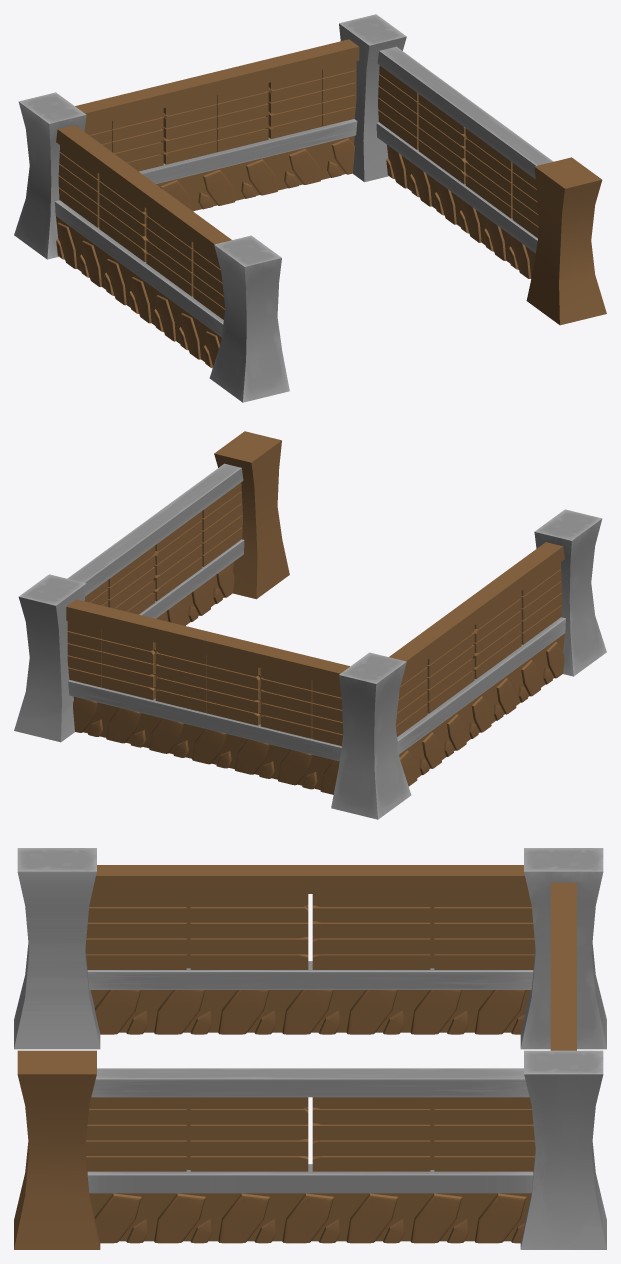
The model's file is Muros1.obj.
3 renders of one model, top to bottom at view 1: azimuth 30°, elevation 25°; view 2: azimuth 150°, elevation 25°; view 3: azimuth 270°, elevation 25°, orthographic. The views are drawn at different scales.
Visible parts, largest first — view 1: group pasted__pCube9, pCube4, pCube43, group pasted__pCube22, group pasted__pCube45, pCube15, pCube278, group pasted__pCube17, pCube19, pCube44, pCube21, pCube18 (+39 smaller); view 2: pCube15, pCube43, pCube278, group pasted__pCube9, group pasted__pCube22, group pasted__pCube45, pCube4, group pasted__pCube17, pCube19, pCube21, pCube18, pCube44 (+42 smaller); view 3: pCube44, group pasted__pCube45, pCube4, pCube278, group pasted__pCube9, pCube19, group pasted__pCube17, pCube20, pCube15, pCube18, group pasted__pCube22, group pasted__pCube166 (+39 smaller).
Boxes of the visible parts, bbox=[...] form: group pasted__pCube9: bbox=[526, 157, 606, 325]; pCube4: bbox=[209, 235, 289, 402]; pCube43: bbox=[156, 136, 354, 211]; group pasted__pCube22: bbox=[75, 39, 359, 127]; group pasted__pCube45: bbox=[56, 216, 221, 368]; pCube15: bbox=[14, 92, 86, 259]; pCube278: bbox=[339, 14, 406, 182]; group pasted__pCube17: bbox=[56, 125, 231, 260]; pCube19: bbox=[377, 46, 553, 178]; pCube44: bbox=[386, 145, 535, 278]; pCube21: bbox=[139, 119, 357, 183]; pCube18: bbox=[55, 200, 223, 337]; pCube15: bbox=[331, 652, 411, 819]; pCube43: bbox=[73, 696, 339, 794]; pCube278: bbox=[14, 574, 86, 742]; group pasted__pCube9: bbox=[214, 431, 289, 599]; group pasted__pCube22: bbox=[66, 599, 349, 687]; group pasted__pCube45: bbox=[399, 633, 564, 786]; pCube4: bbox=[534, 509, 606, 676]; group pasted__pCube17: bbox=[389, 542, 564, 677]; pCube19: bbox=[67, 463, 243, 595]; pCube21: bbox=[68, 680, 341, 761]; pCube18: bbox=[397, 617, 565, 754]; pCube44: bbox=[156, 562, 234, 625]; pCube44: bbox=[89, 1193, 531, 1243]; group pasted__pCube45: bbox=[90, 990, 530, 1034]; pCube4: bbox=[14, 848, 100, 1049]; pCube278: bbox=[520, 1050, 606, 1249]; group pasted__pCube9: bbox=[14, 1050, 100, 1249]; pCube19: bbox=[91, 1068, 529, 1097]; group pasted__pCube17: bbox=[92, 865, 528, 893]; pCube20: bbox=[87, 1164, 533, 1193]; pCube15: bbox=[520, 848, 606, 1049]; pCube18: bbox=[87, 961, 533, 989]; group pasted__pCube22: bbox=[550, 882, 576, 1050]; group pasted__pCube166: bbox=[190, 937, 308, 954].
Bounding box in the file's own units: 8.49 × 2.99 × 9.25.
Materials: 8 (8 with a texture image).
